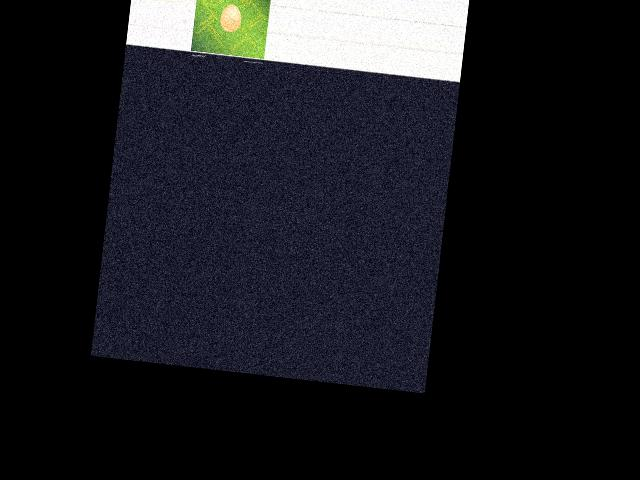egg: (219, 4, 243, 32)
